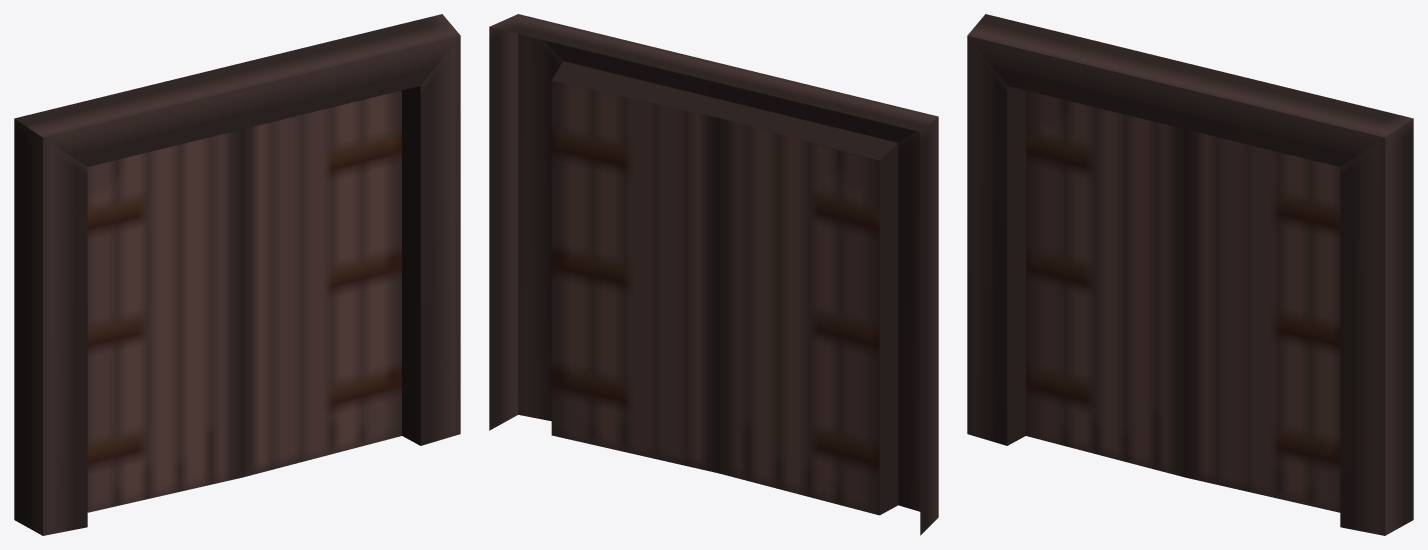
File: door_double_v1_001.fbx
3 views of the same model, side by side, from view 1: azimuth 30°, elevation 25°; view 2: azimuth 150°, elevation 25°; view 3: azimuth 330°, elevation 25° (orthographic).
Visible parts, largest first — view 1: door_double_v1_001; view 2: door_double_v1_001; view 3: door_double_v1_001.
Part boxes in pixels (x1=…): door_double_v1_001: x1=14, y1=14, x2=460, y2=535; door_double_v1_001: x1=489, y1=14, x2=938, y2=535; door_double_v1_001: x1=967, y1=14, x2=1413, y2=535.
Size of the model in its own units: 200 by 179 by 20.9.
